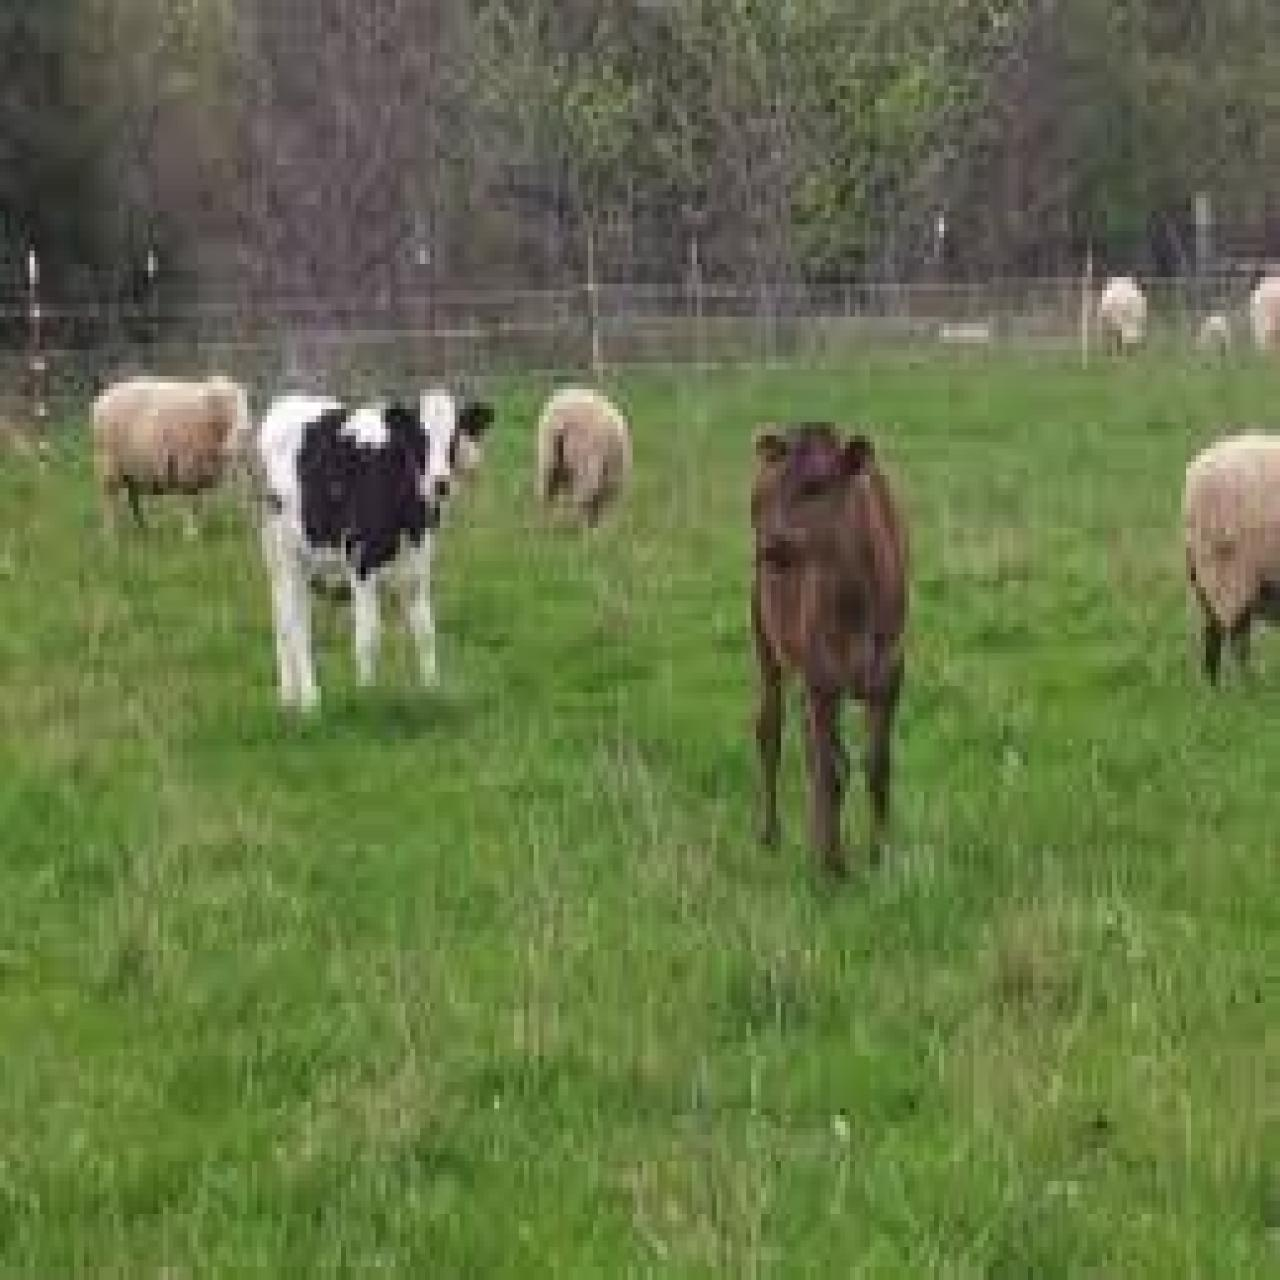cow: (749, 418, 912, 874), (252, 399, 484, 696), (94, 373, 247, 531), (1191, 429, 1280, 673), (531, 393, 640, 518), (1099, 280, 1155, 353), (1251, 274, 1280, 366), (1186, 313, 1241, 360)
